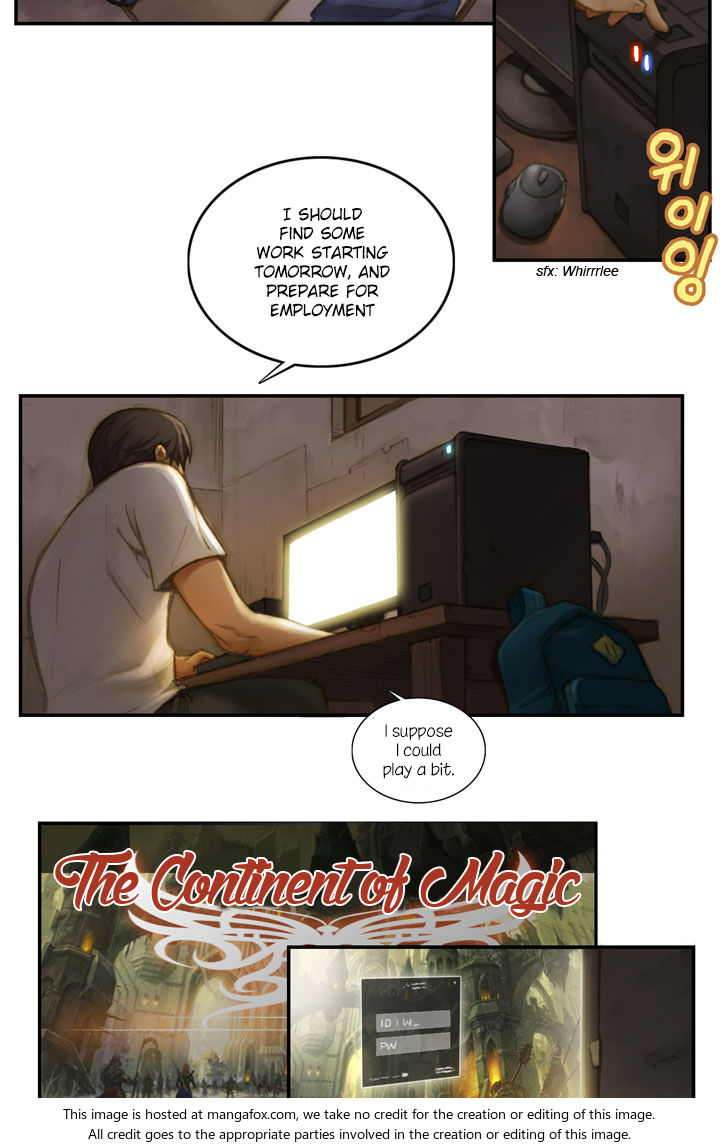bubble: (189, 157, 455, 382), (352, 690, 485, 803)
